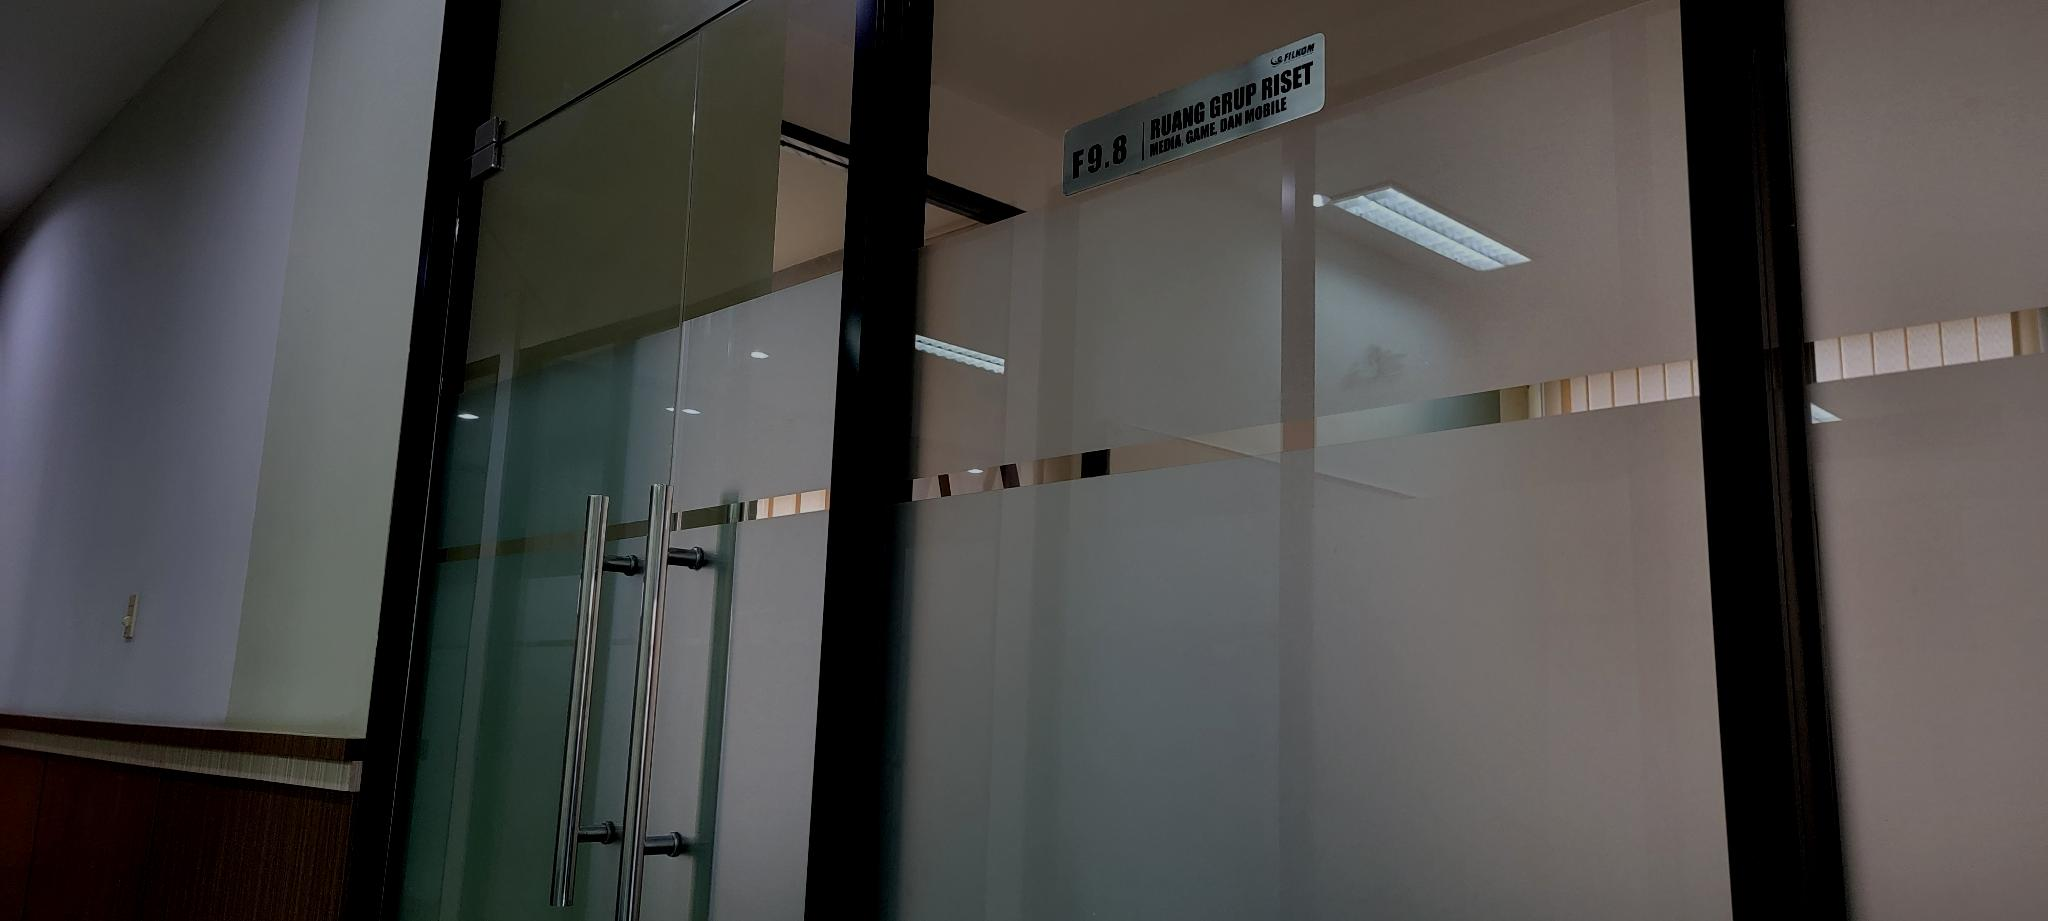plate: (1058, 29, 1328, 197)
